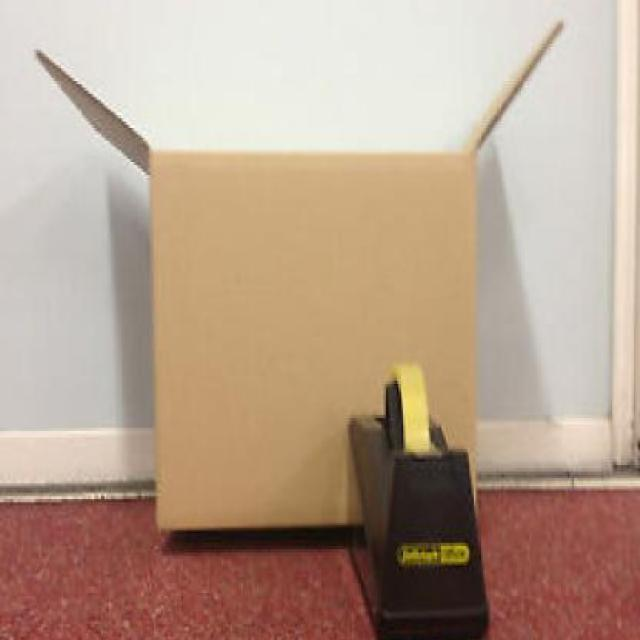box: (24, 21, 591, 574)
